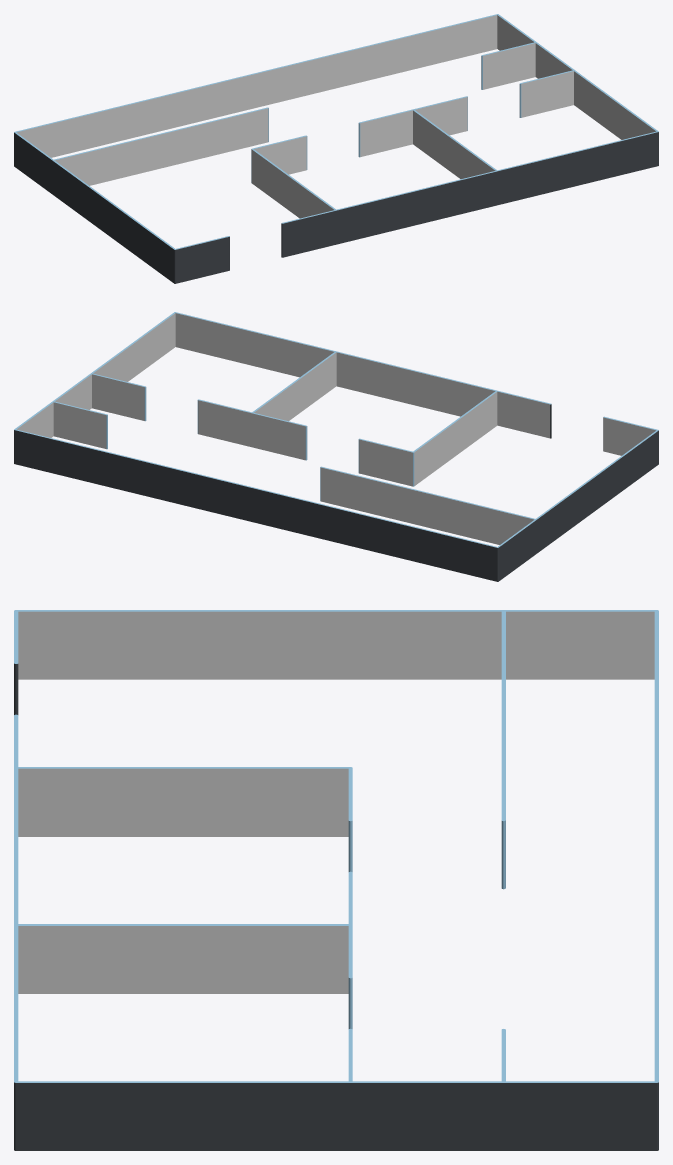
Rendered from tortoisebot_walls.dae.
3 views of the same model, one above another, from view 1: azimuth 30°, elevation 25°; view 2: azimuth 150°, elevation 25°; view 3: azimuth 270°, elevation 25° (orthographic). The views are drawn at different scales.
Parts seen in each view (by area): view 1: ID2; view 2: ID2; view 3: ID2.
Boxes of the visible parts, x1=… form: ID2: x1=14, y1=14, x2=658, y2=283; ID2: x1=14, y1=312, x2=658, y2=581; ID2: x1=14, y1=610, x2=658, y2=1150.
Size of the model in its own units: 2.68 by 1.55 by 0.18.
